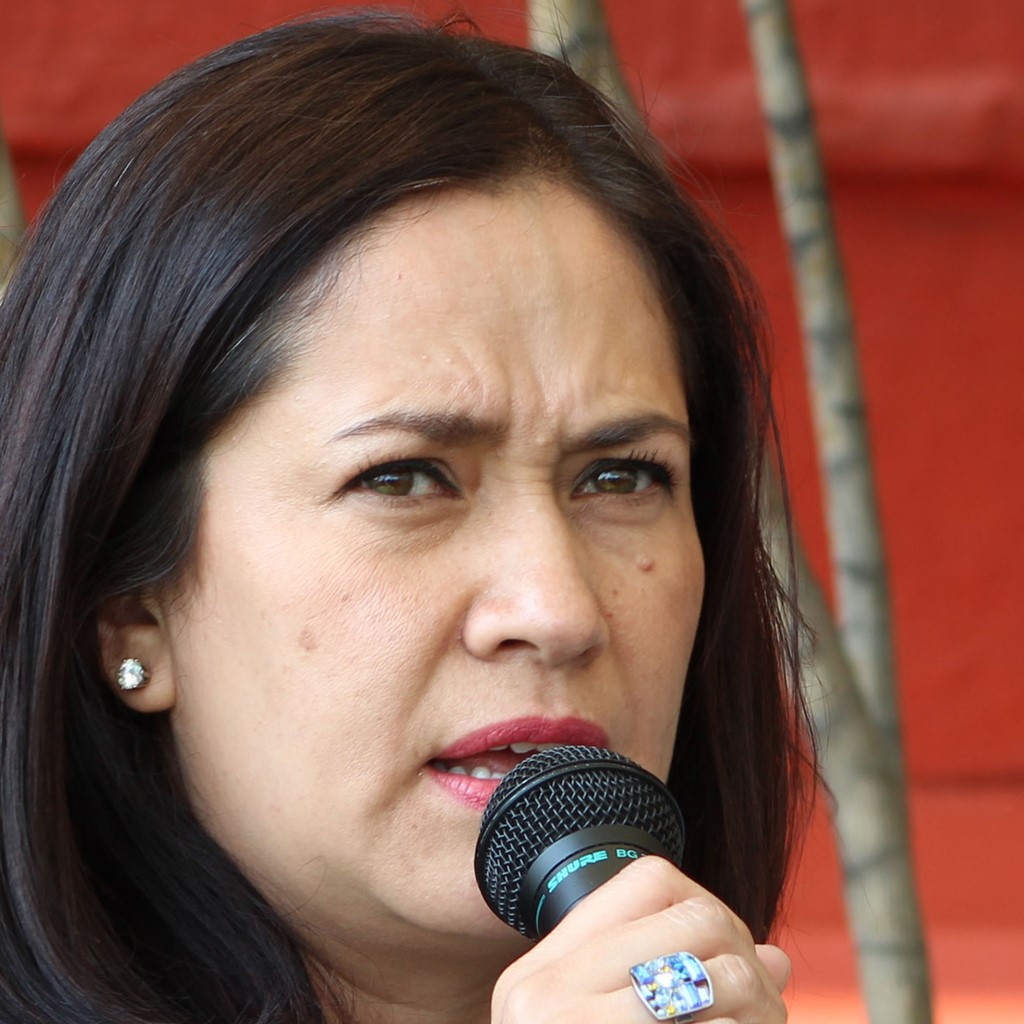sin_mascara: (135, 100, 705, 953)
